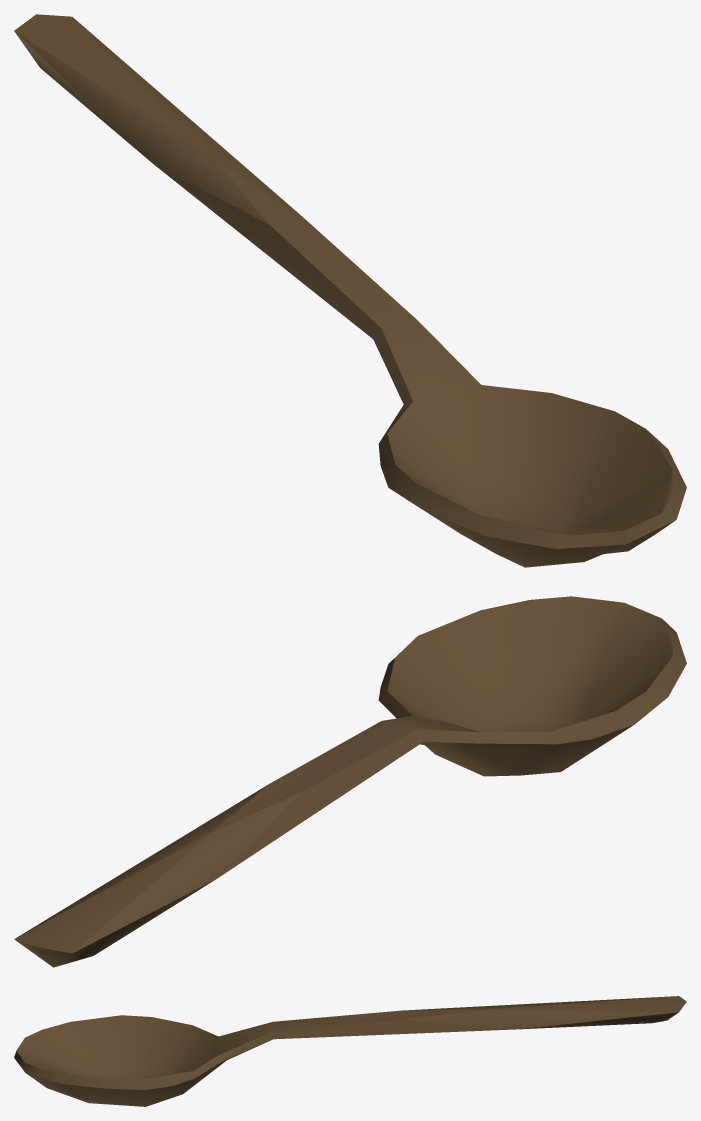
The model's file is spoon.fbx.
The picture shows the model from 3 angles, top to bottom: view 1: azimuth 30°, elevation 25°; view 2: azimuth 150°, elevation 25°; view 3: azimuth 270°, elevation 25°; orthographic projection. The views are drawn at different scales.
Parts seen in each view (by area): view 1: lower; view 2: lower; view 3: lower.
Boxes of the visible parts, x1,y1,x2,y2 form: lower: (14,14,686,567); lower: (14,596,686,967); lower: (14,996,686,1106).
Bounding box in the file's own units: 309 × 208 × 1281.
